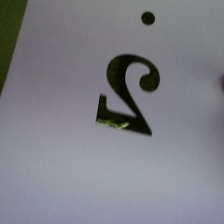violet2: (93, 7, 168, 143)
